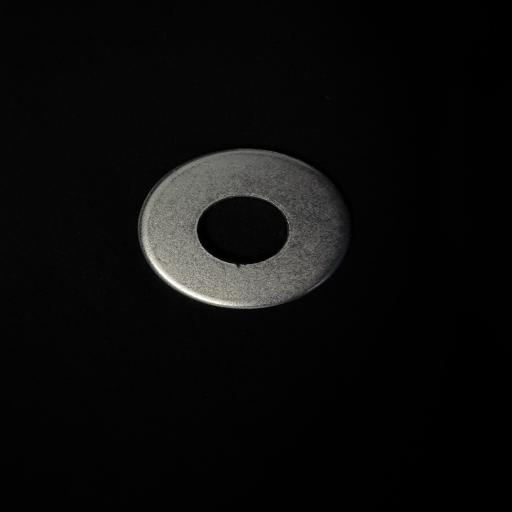Product: (138, 149, 350, 309)
chip off: (224, 259, 249, 274)
